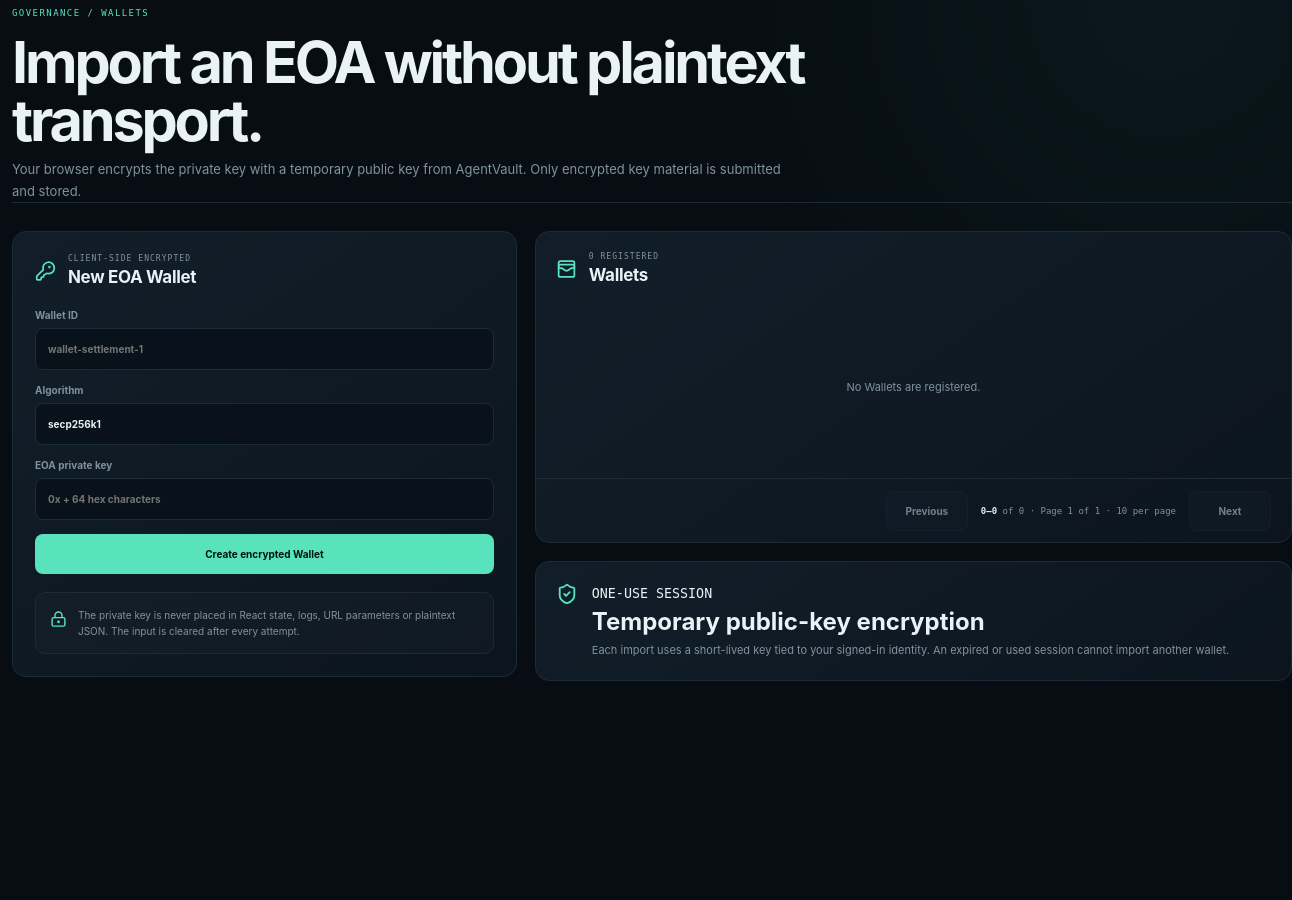
it: wallet import UI › rejects malformed key input before requesting a session
Expected: the button "Create encrypted Wallet" is enabled, x1=35 y1=534 x2=494 y2=574
Type "wallet-ui" into the field labelled "Wallet ID" at coordinates (264, 349), box x1=35 y1=328 x2=494 y2=370
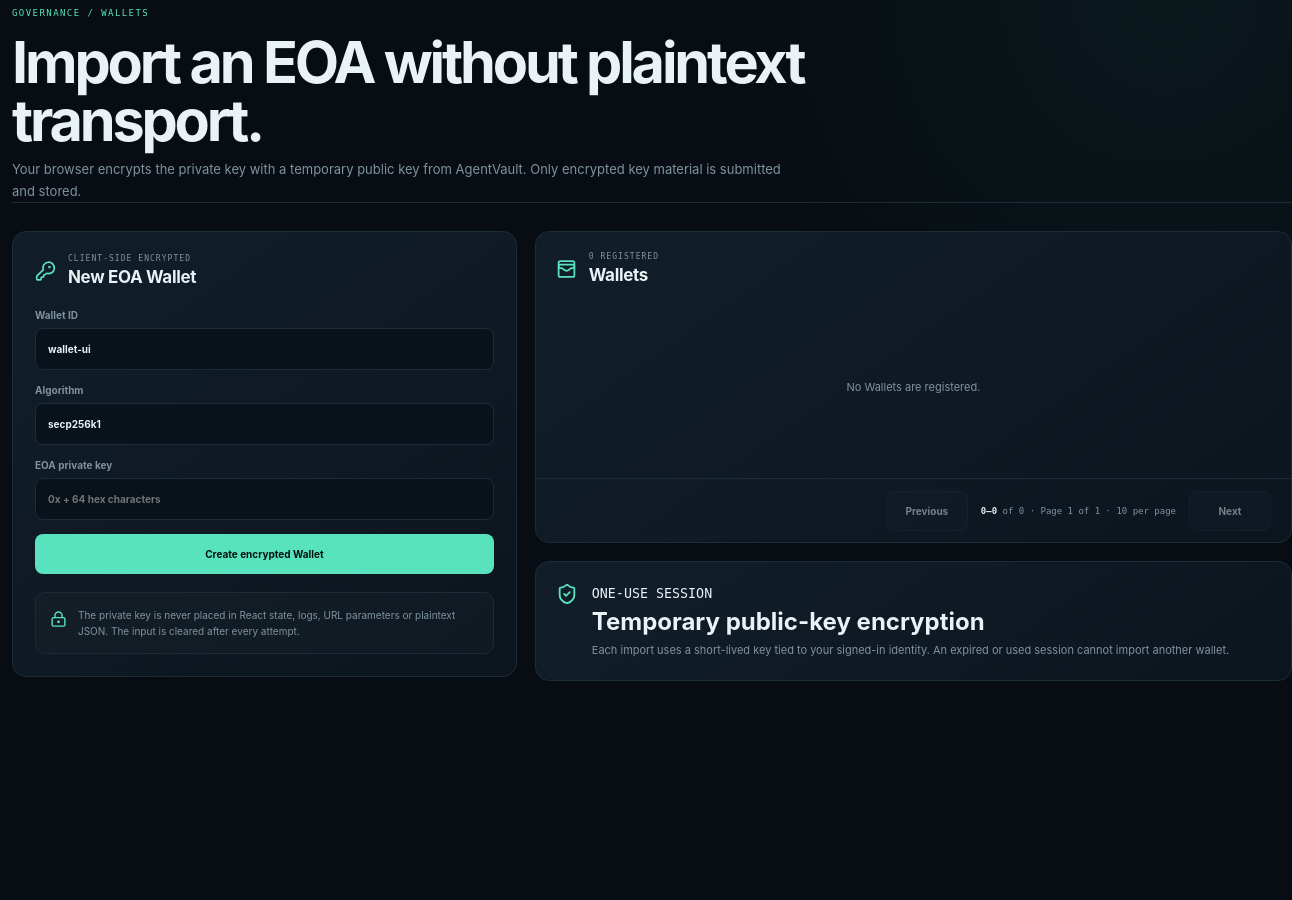
Type "not-a-private-key" into the password field labelled "EOA private key" at coordinates (264, 499), box x1=35 y1=478 x2=494 y2=520
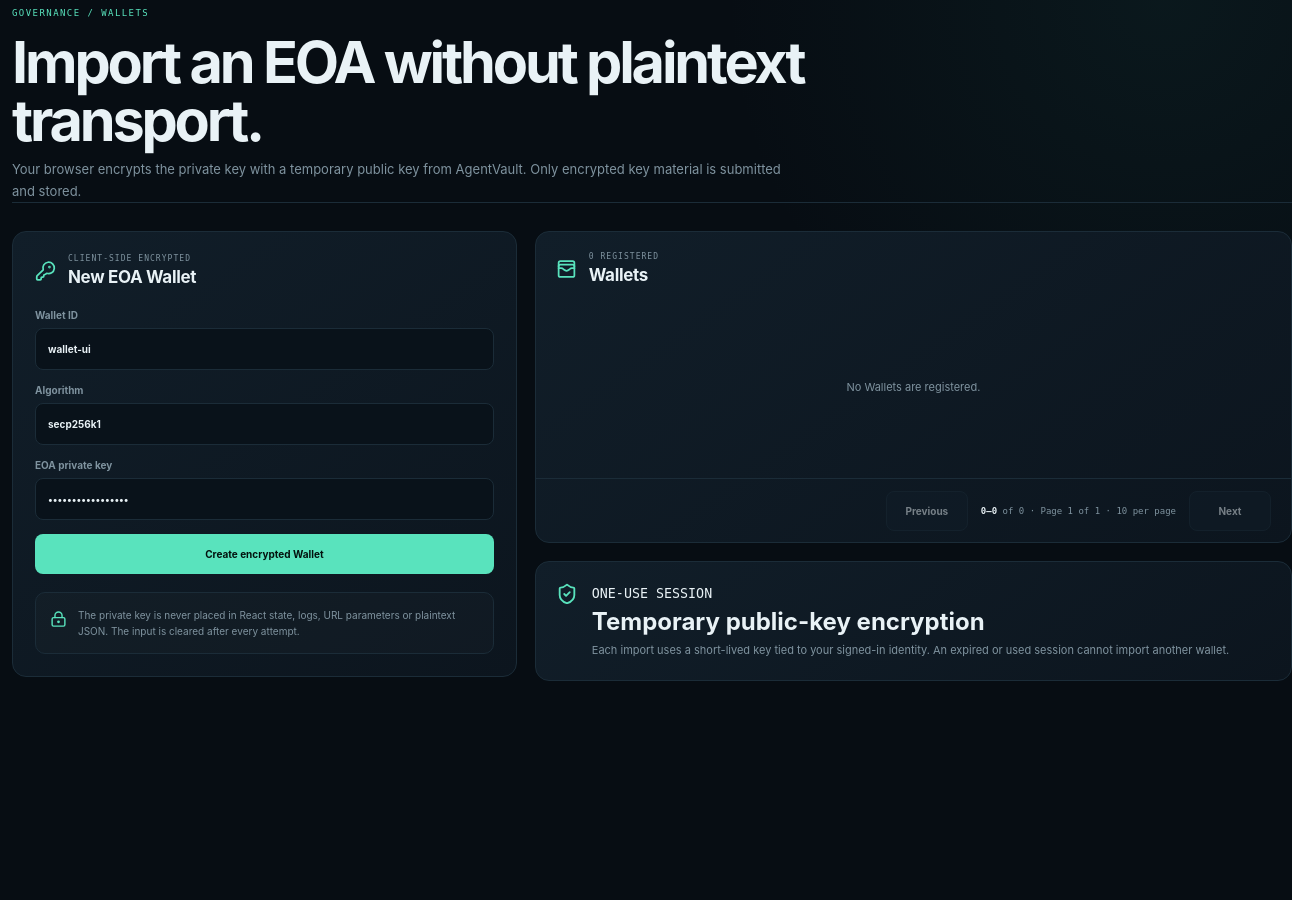
Submit the form with test id "wallet-create-form", box x1=12 y1=231 x2=517 y2=677
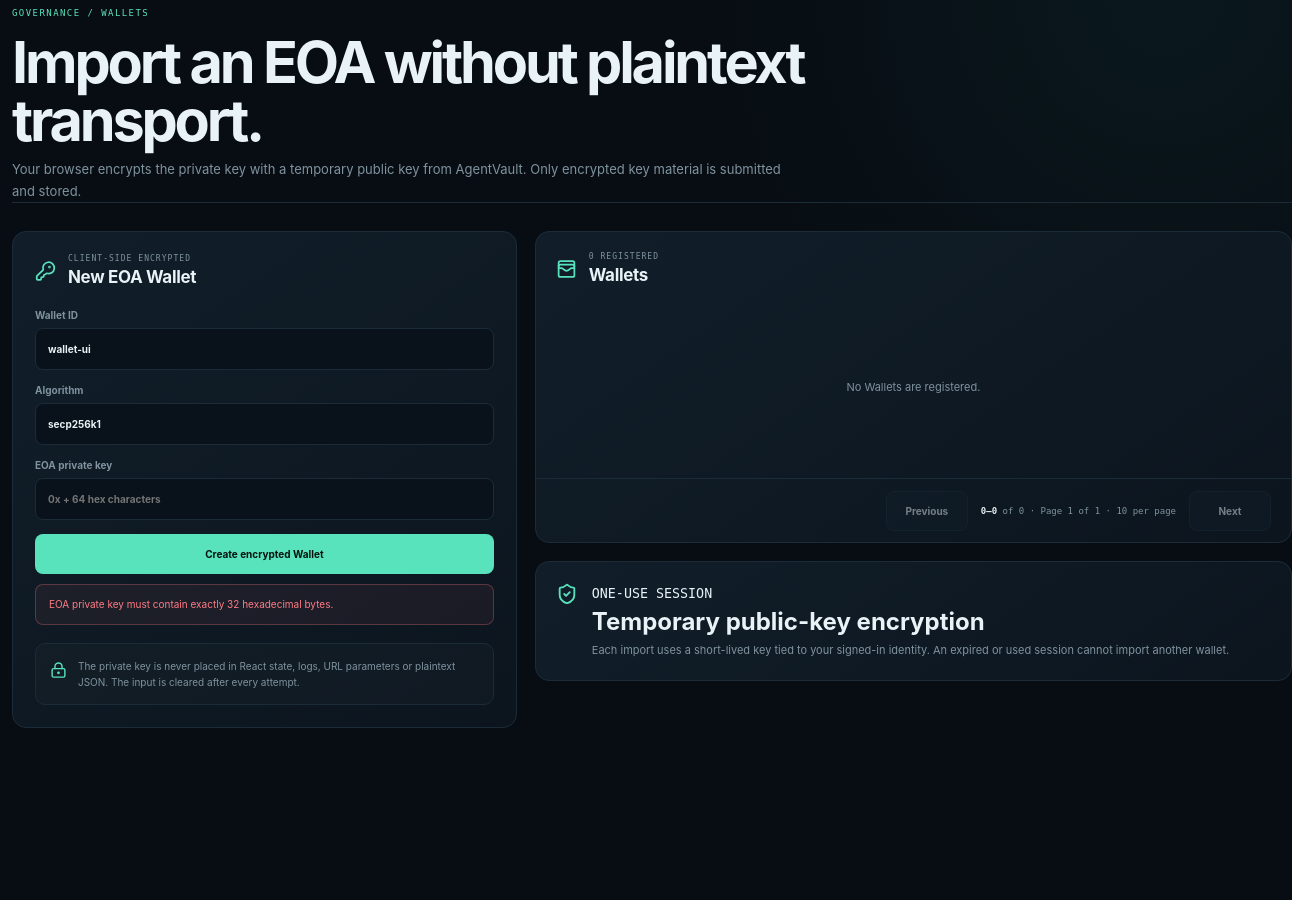
Now the text "EOA private key must contain exactly 32 hexadecimal bytes." is shown, box x1=35 y1=584 x2=494 y2=625
Now the password field labelled "EOA private key" is empty, box x1=35 y1=478 x2=494 y2=520
